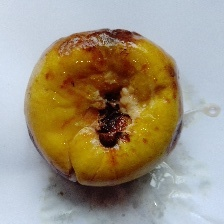guava: (19, 35, 213, 198)
